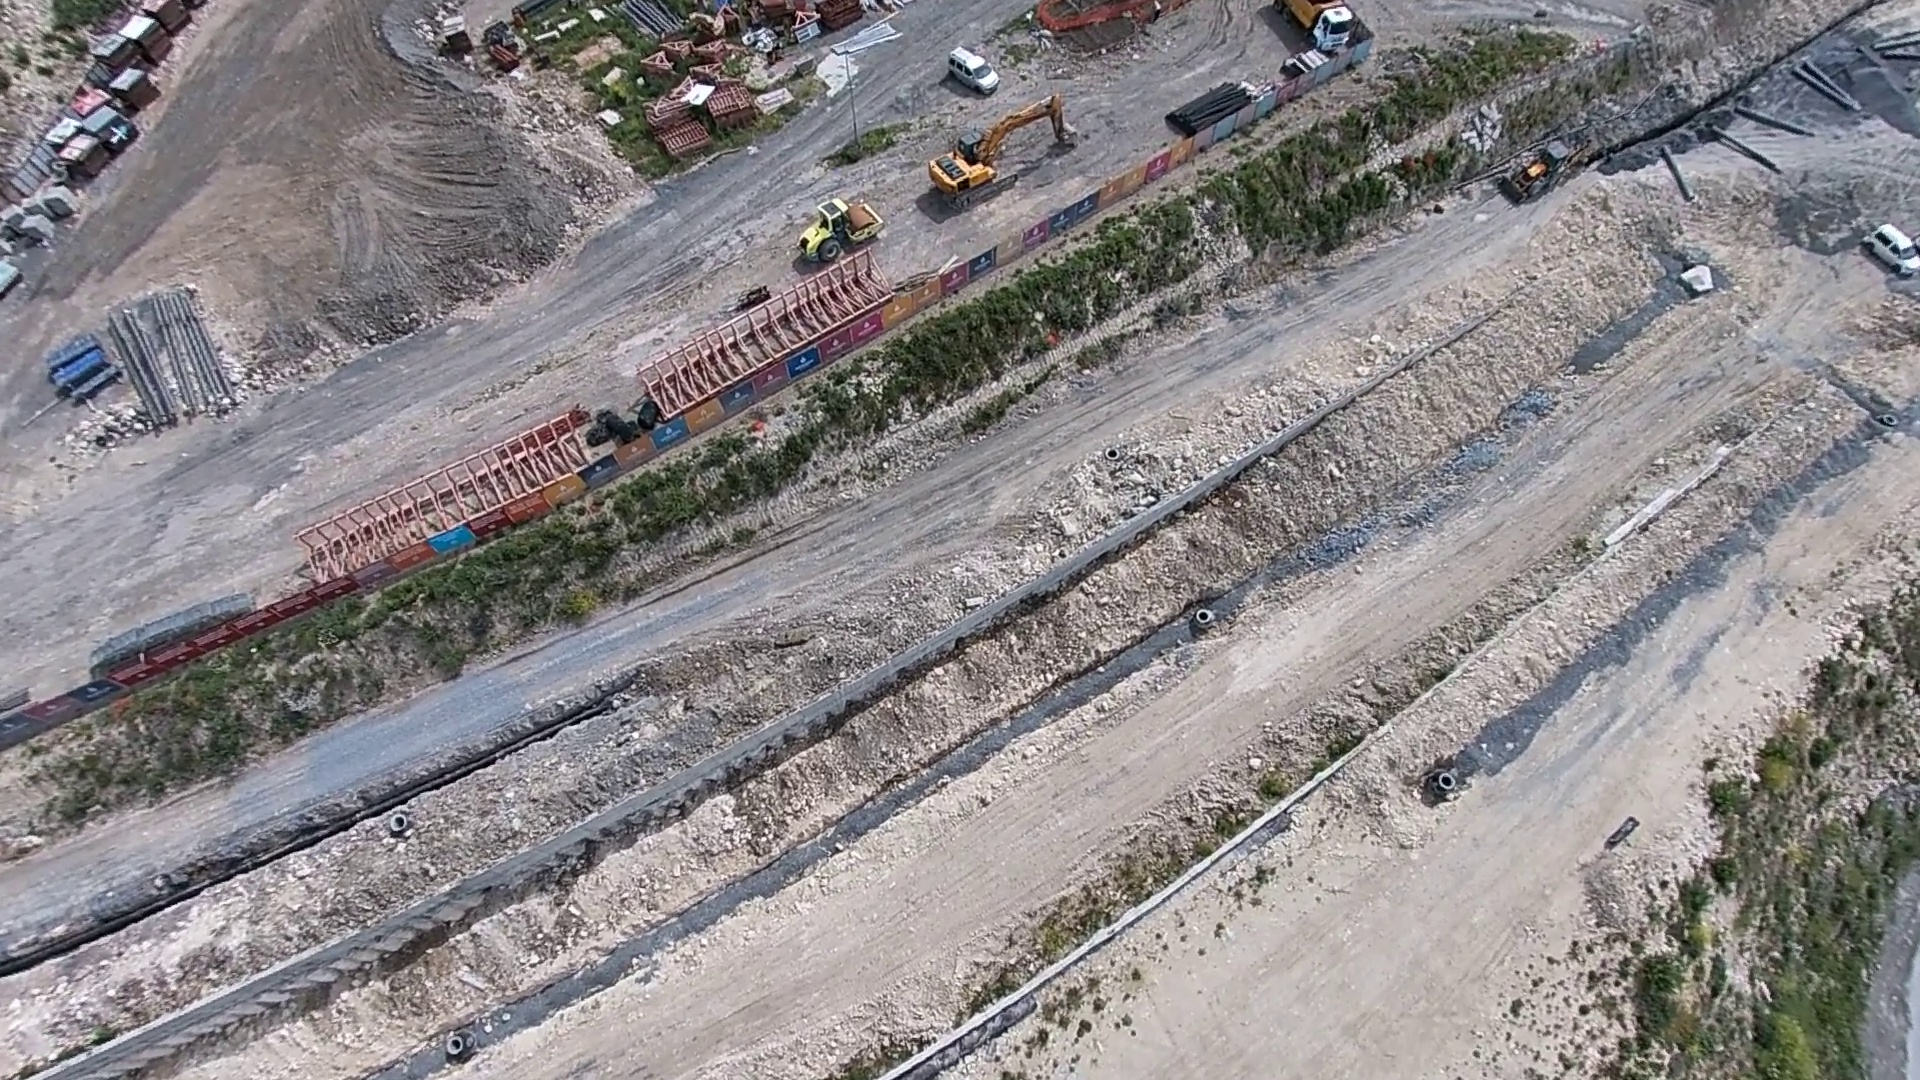araba: (943, 42, 1007, 95), (1859, 222, 1920, 276)
ismakinesi: (913, 84, 1087, 203)
kamyon: (1284, 1, 1356, 53)
traktor: (1495, 137, 1600, 215), (781, 194, 885, 265)
